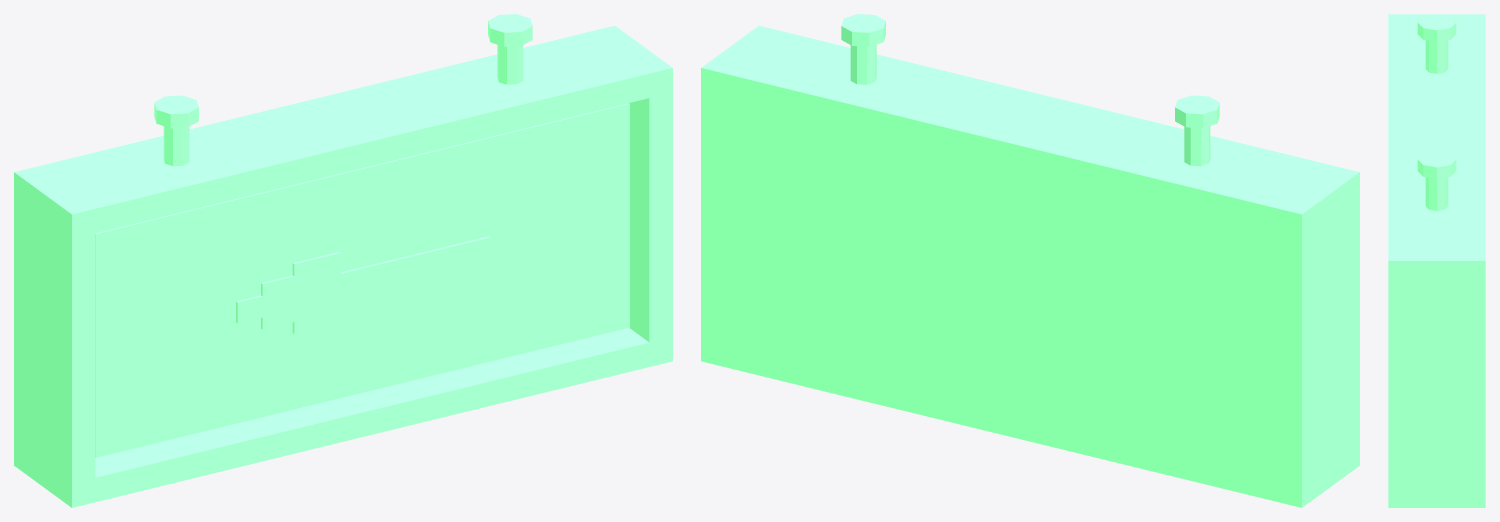
The model's file is exit-sign.glb.
3 views of the same model, side by side, from view 1: azimuth 30°, elevation 25°; view 2: azimuth 150°, elevation 25°; view 3: azimuth 270°, elevation 25° (orthographic). The views are drawn at different scales.
Visible parts, largest first — view 1: exit-sign_merged; view 2: exit-sign_merged; view 3: exit-sign_merged.
Boxes of the visible parts, bbox=[...] form: exit-sign_merged: bbox=[14, 14, 672, 507]; exit-sign_merged: bbox=[701, 14, 1359, 507]; exit-sign_merged: bbox=[1388, 14, 1485, 507].
Size of the model in its own units: 0.36 by 0.2 by 0.06.
